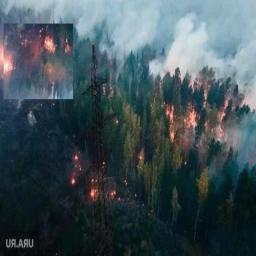Heavy smoke: (98, 0, 256, 156)
Medium fire: (161, 98, 232, 146), (0, 34, 72, 81), (65, 152, 130, 202)
